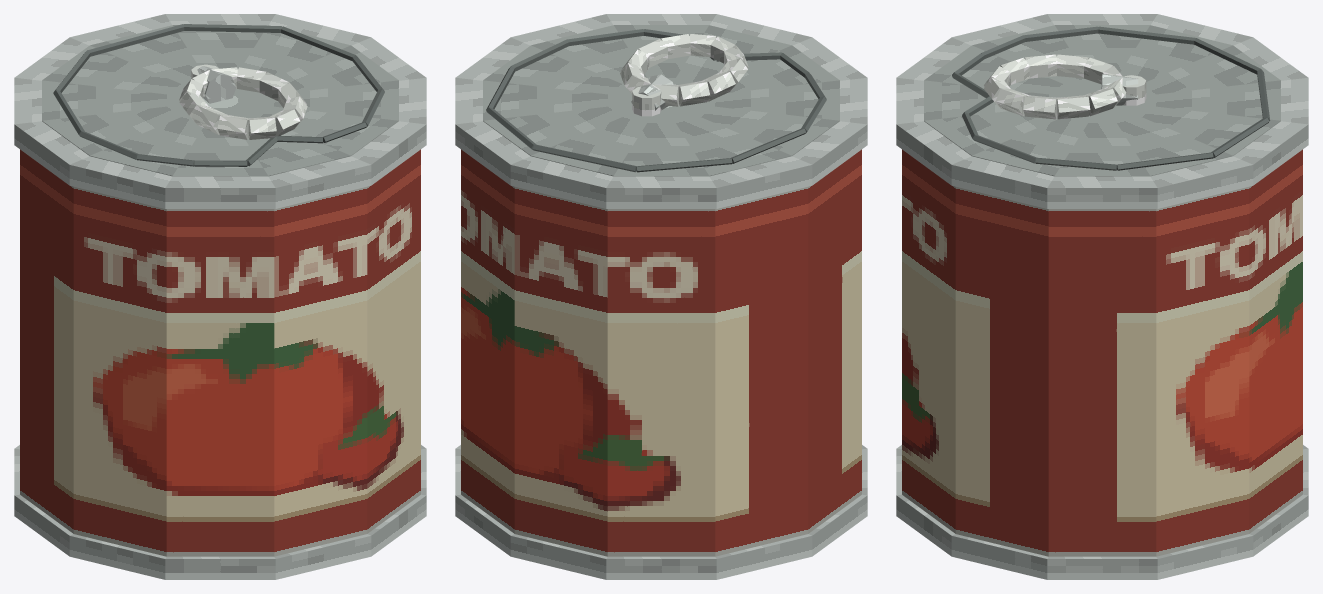
Rendered from can_tomato.glb.
3 views of the same model, side by side, from view 1: azimuth 30°, elevation 25°; view 2: azimuth 150°, elevation 25°; view 3: azimuth 270°, elevation 25° (orthographic).
Parts seen in each view (by area): view 1: block_illustrated wraparound can label, block_recessed easy-open panel, block_rolled steel top, block_rolled steel base, block_pull tab hinge, block_scored lid opening 3, block_scored lid opening 4, block_raised metal pull ring 4, block_raised metal pull ring 3, block_raised metal pull ring 5, block_scored lid opening 5, block_raised metal pull ring 10; view 2: block_illustrated wraparound can label, block_recessed easy-open panel, block_rolled steel top, block_rolled steel base, block_scored lid opening 3, block_raised metal pull ring 7, block_pull tab rivet, block_scored lid opening 2, block_raised metal pull ring 6, block_scored lid opening 7, block_scored lid opening 1, block_raised metal pull ring 1; view 3: block_illustrated wraparound can label, block_recessed easy-open panel, block_rolled steel top, block_rolled steel base, block_scored lid opening 1, block_raised metal pull ring 0, block_raised metal pull ring 11, block_scored lid opening 5, block_raised metal pull ring 5, block_raised metal pull ring 6, block_raised metal pull ring 1, block_raised metal pull ring 10 (+3 smaller).
Part boxes in pixels (box(x1,y1,x2,y2)): block_illustrated wraparound can label: box(20, 149, 420, 556); block_recessed easy-open panel: box(42, 25, 398, 176); block_rolled steel top: box(14, 14, 426, 208); block_rolled steel base: box(14, 445, 426, 579); block_pull tab hinge: box(197, 66, 236, 103); block_scored lid opening 3: box(87, 24, 184, 56); block_scored lid opening 4: box(183, 24, 282, 32); block_raised metal pull ring 4: box(217, 114, 249, 139); block_raised metal pull ring 3: box(248, 116, 276, 139); block_raised metal pull ring 5: box(191, 105, 226, 134); block_scored lid opening 5: box(281, 26, 355, 60); block_raised metal pull ring 10: box(237, 67, 266, 92); block_illustrated wraparound can label: box(461, 149, 861, 556); block_recessed easy-open panel: box(483, 25, 839, 176); block_rolled steel top: box(455, 14, 867, 208); block_rolled steel base: box(455, 445, 867, 579); block_scored lid opening 3: box(533, 144, 636, 172); block_raised metal pull ring 7: box(678, 81, 710, 106); block_pull tab rivet: box(632, 86, 661, 116); block_scored lid opening 2: box(636, 158, 732, 172); block_raised metal pull ring 6: box(701, 72, 735, 101); block_scored lid opening 7: box(567, 29, 643, 45); block_scored lid opening 1: box(730, 128, 806, 163); block_raised metal pull ring 1: box(661, 34, 690, 58); block_illustrated wraparound can label: box(902, 149, 1302, 556); block_recessed easy-open panel: box(924, 25, 1280, 176); block_rolled steel top: box(896, 14, 1308, 208); block_rolled steel base: box(896, 445, 1308, 579); block_scored lid opening 1: box(1098, 26, 1196, 44); block_raised metal pull ring 0: box(1023, 95, 1056, 119); block_raised metal pull ring 11: box(1057, 95, 1090, 119); block_scored lid opening 5: box(1117, 152, 1213, 170); block_raised metal pull ring 5: box(1024, 54, 1056, 78); block_raised metal pull ring 6: box(1057, 54, 1088, 78); block_raised metal pull ring 1: box(996, 88, 1028, 116); block_raised metal pull ring 10: box(1084, 88, 1117, 116).
Size of the model in its own units: 0.0715 by 0.0801 by 0.0715.
Materials: 1 (1 with a texture image).
